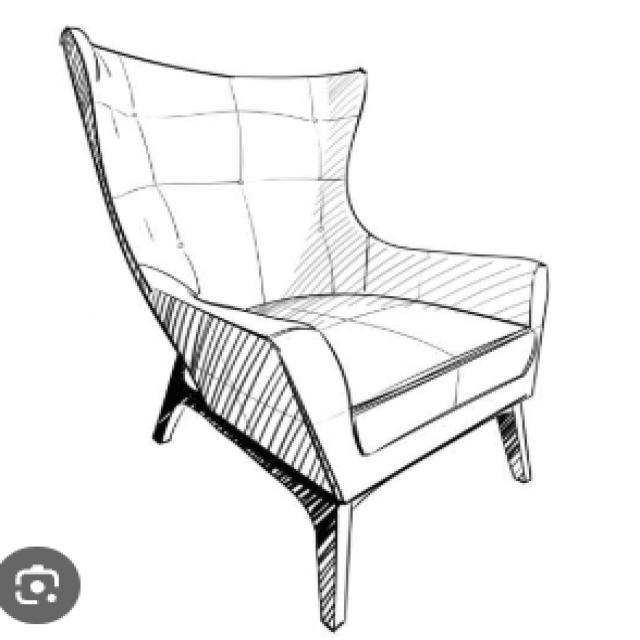Armrest: (133, 266, 365, 503), (360, 231, 552, 335)
Backrest: (124, 54, 336, 309)
Leg_Structure: (142, 345, 537, 633)
Seat: (240, 290, 541, 500)
Wing_Flange: (56, 24, 198, 294), (314, 66, 371, 293)
